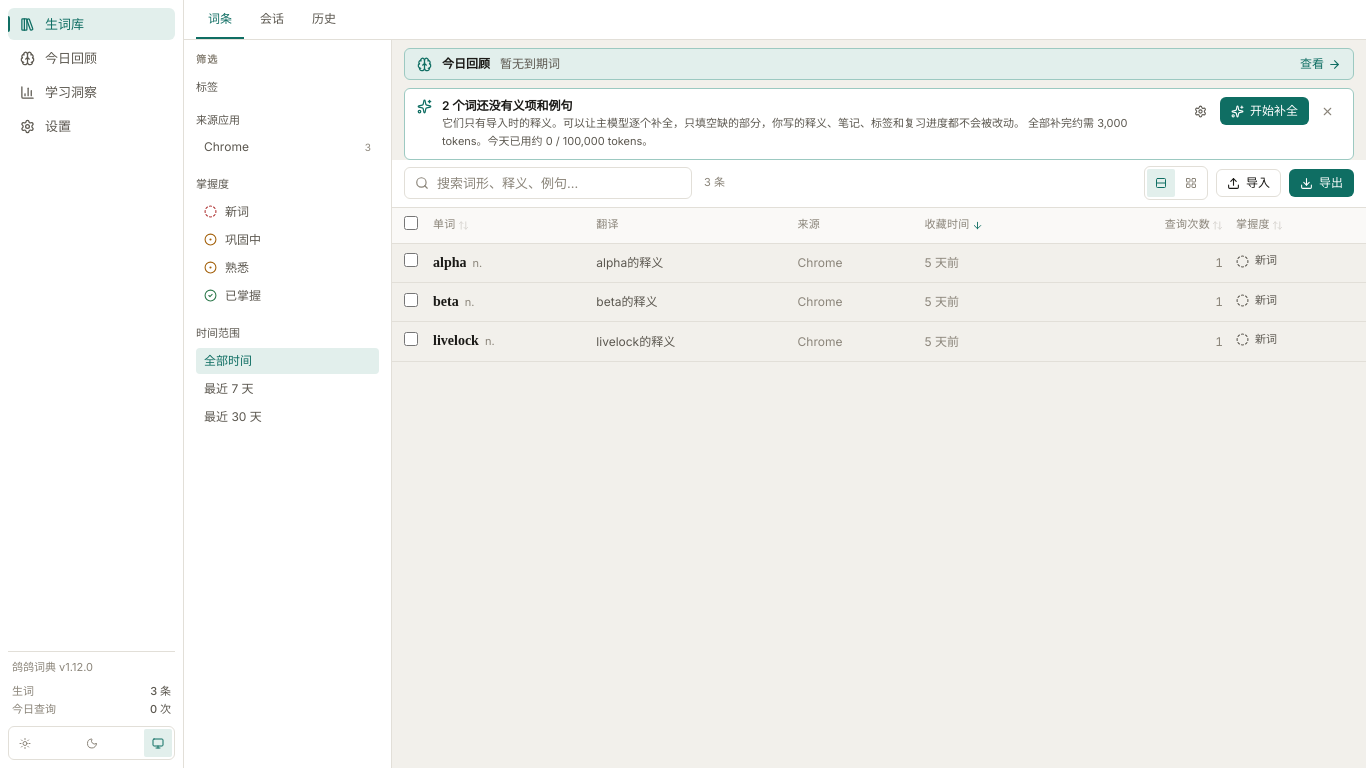
Scenario: the word list in the library › is not fooled into "all selected" by words that are selected but not listed
One word is chosen, then the list is narrowed to another one: one selected, one listed.
Step 1. Click the checkbox named "选择 alpha" → (411, 260), box [404,253,418,267]
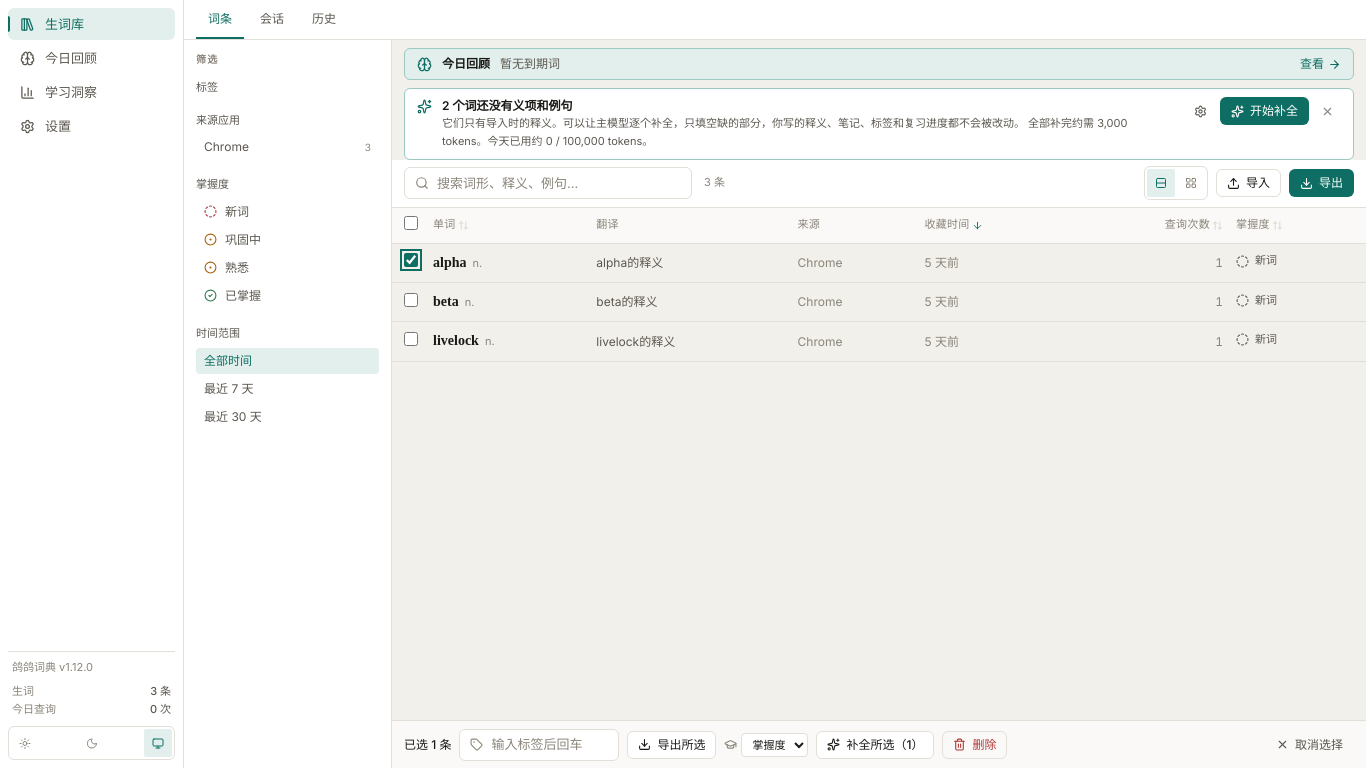
Step 2. Type "beta" into the search field → (559, 183), box [437,173,681,193]
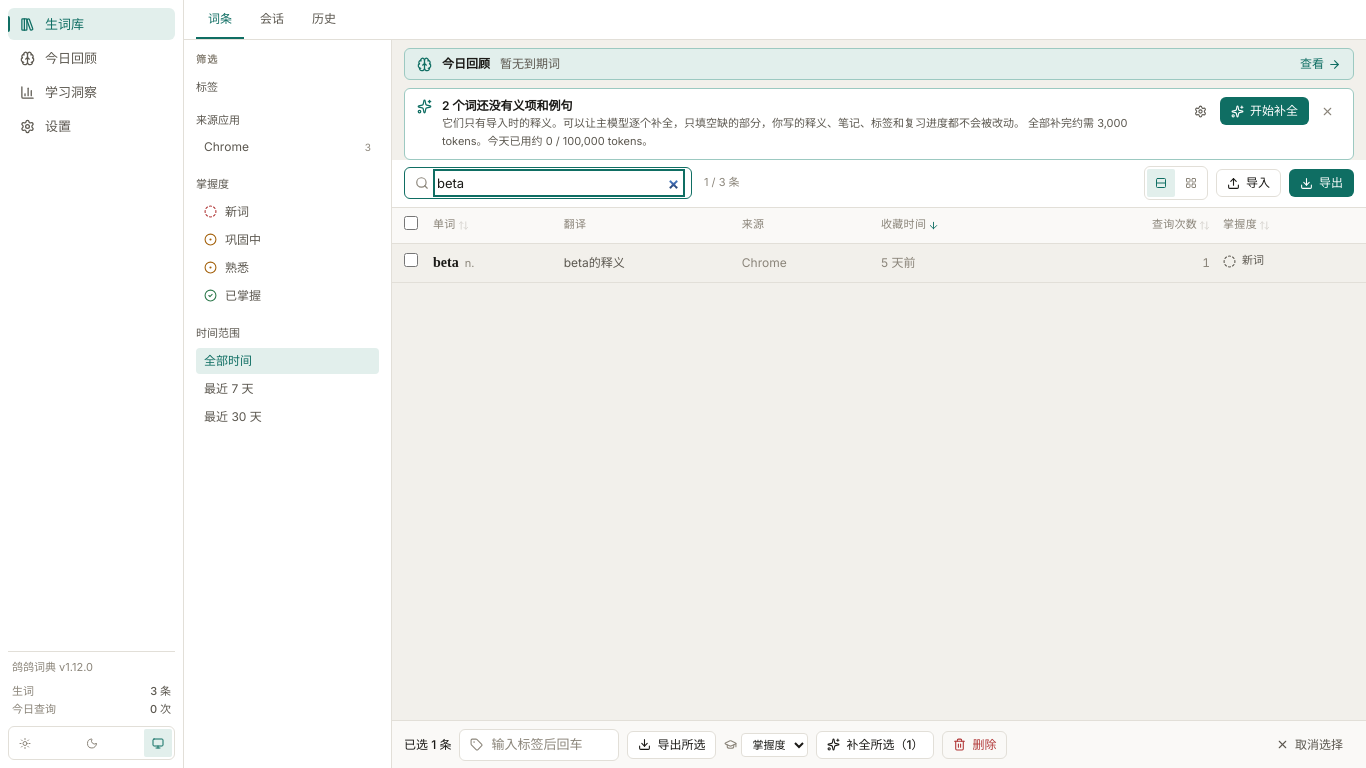
expect the checkbox named "选择 beta" is not checked: met, box [404,253,418,267]
The box in the header takes the listed word and leaves the choice made earlier alone.
Step 3. Click the checkbox named "全选当前列表" → (411, 223), box [404,216,418,230]
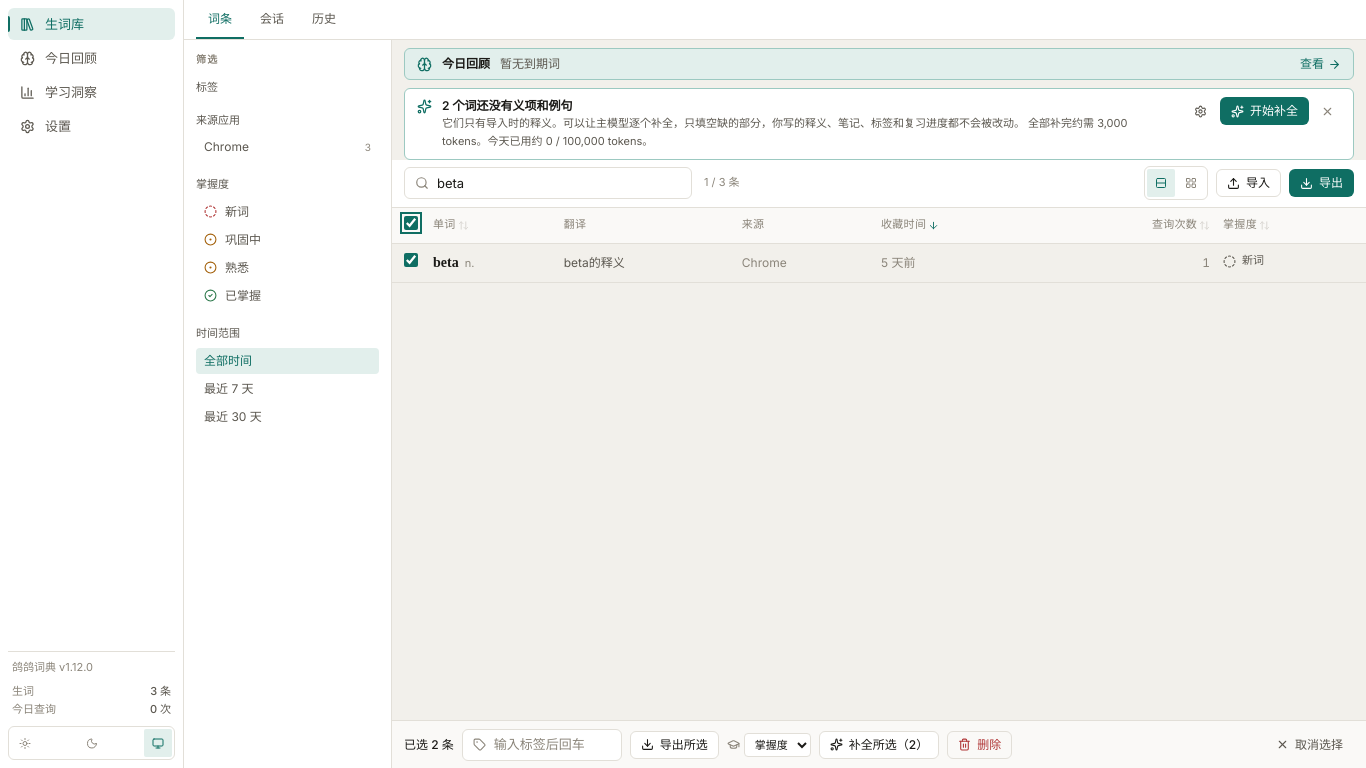
expect the checkbox named "全选当前列表" is checked: met, box [404,216,418,230]
expect the checkbox named "选择 beta" is checked: met, box [404,253,418,267]
expect the text "已选 2 条" is shown: met, box [404,736,454,754]
Step 4. Clear the search field → (559, 183), box [437,173,681,193]
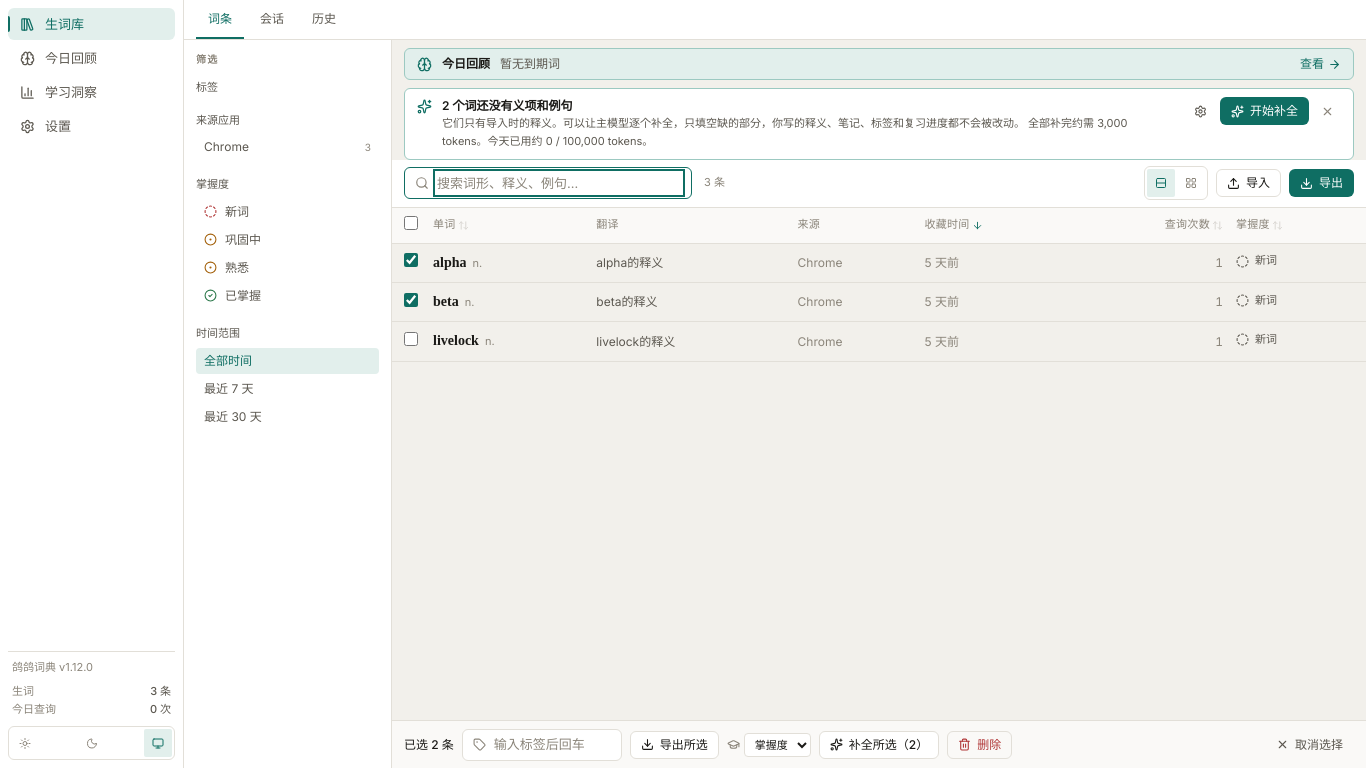
expect the checkbox named "全选当前列表" is not checked: met
expect the checkbox named "选择 beta" is checked: met, box [404,293,418,307]
expect the checkbox named "选择 livelock" is not checked: met, box [404,332,418,346]
With everything listed again, the box takes out the listed words, which is all of them.
Step 5. Click the checkbox named "全选当前列表" → (411, 223), box [404,216,418,230]
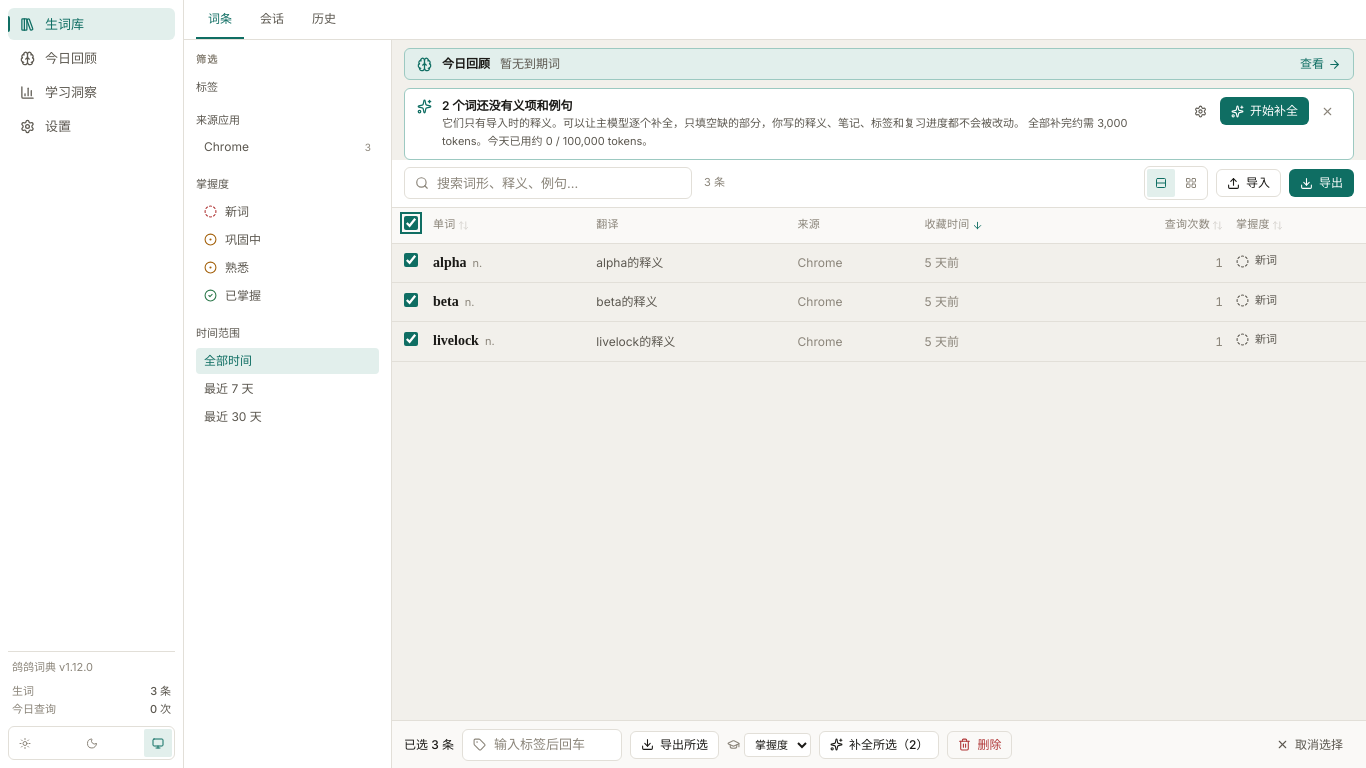
expect the checkbox named "全选当前列表" is checked: met
Step 6. Click the checkbox named "全选当前列表" → (411, 223), box [404,216,418,230]
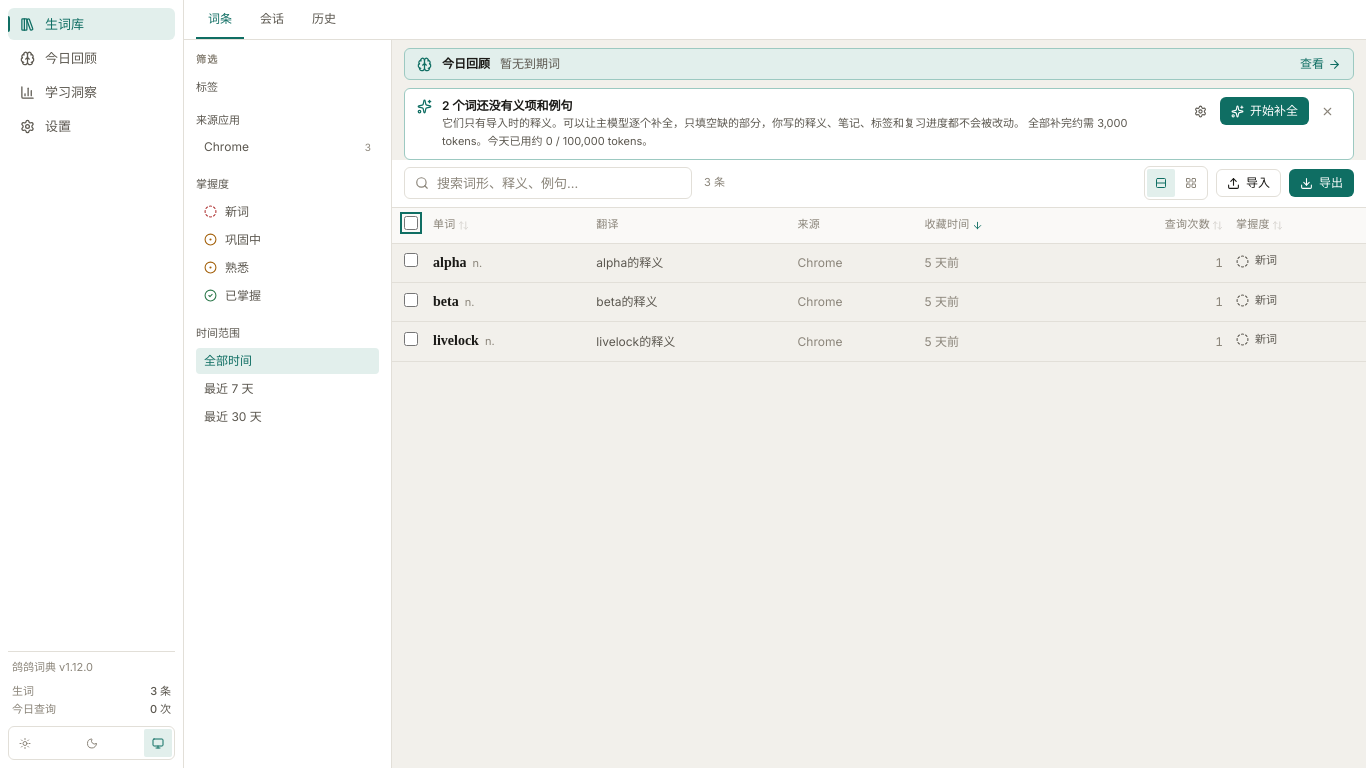
expect the checkbox named "选择 alpha" is not checked: met, box [404,253,418,267]
expect the checkbox named "选择 beta" is not checked: met, box [404,293,418,307]
expect the checkbox named "选择 livelock" is not checked: met, box [404,332,418,346]
